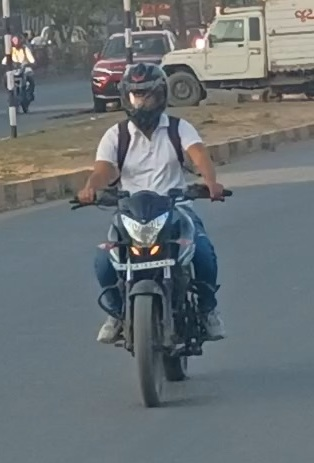BikeWithRider: (61, 60, 239, 411), (3, 32, 41, 119)
NoHelmet: (108, 64, 178, 131)
